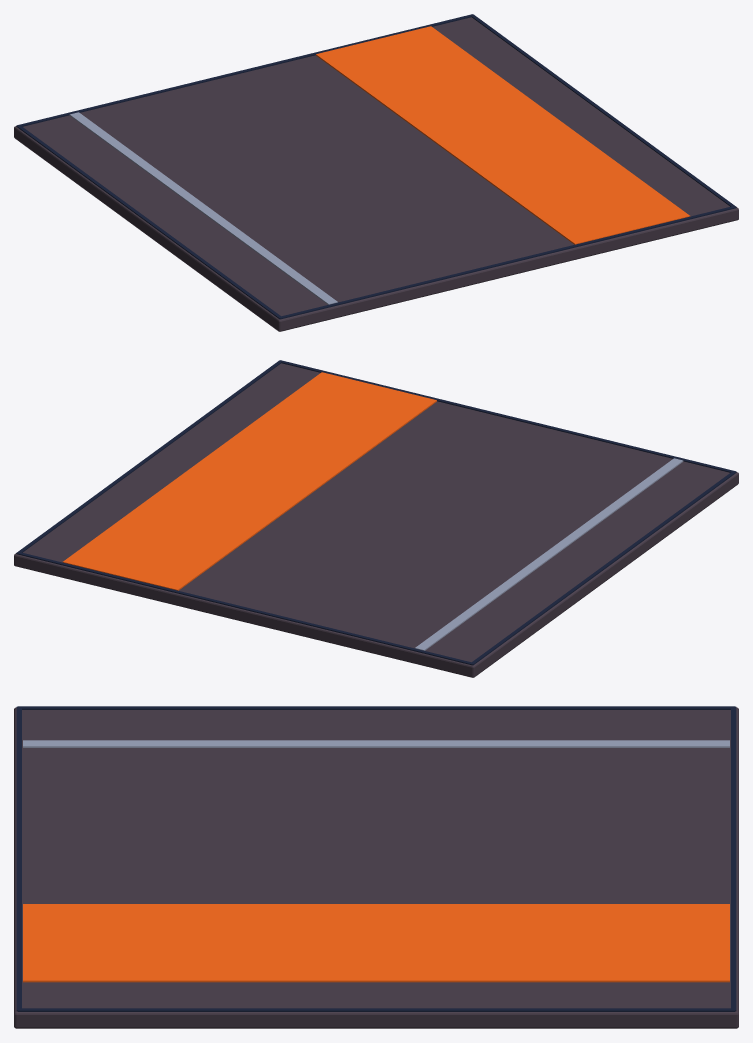
Rendered from sol_tuile_orange.glb.
The picture shows the model from 3 angles, top to bottom: view 1: azimuth 30°, elevation 25°; view 2: azimuth 150°, elevation 25°; view 3: azimuth 270°, elevation 25°; orthographic projection. The views are drawn at different scales.
Visible parts, largest first — view 1: Sol, Bande, Ligne, JointS, JointN, JointO, JointE; view 2: Sol, Bande, Ligne, JointN, JointS, JointO, JointE; view 3: Sol, Bande, Ligne, JointE, JointO, JointN, JointS.
Boxes of the visible parts, bbox=[...] form: Sol: bbox=[14, 17, 738, 331]; Bande: bbox=[316, 26, 690, 244]; Ligne: bbox=[69, 112, 337, 304]; JointS: bbox=[280, 206, 736, 319]; JointN: bbox=[17, 14, 472, 126]; JointO: bbox=[16, 125, 282, 319]; JointE: bbox=[470, 14, 736, 207]; Sol: bbox=[14, 363, 738, 677]; Bande: bbox=[62, 372, 436, 590]; Ligne: bbox=[415, 458, 683, 650]; JointN: bbox=[16, 552, 473, 665]; JointS: bbox=[280, 360, 735, 472]; JointO: bbox=[470, 471, 736, 665]; JointE: bbox=[16, 360, 282, 553]; Sol: bbox=[14, 707, 738, 1028]; Bande: bbox=[23, 904, 729, 982]; Ligne: bbox=[23, 740, 729, 747]; JointE: bbox=[17, 1008, 735, 1011]; JointO: bbox=[17, 706, 735, 709]; JointN: bbox=[731, 706, 736, 1011]; JointS: bbox=[16, 706, 21, 1011].
Bounding box in the file's own units: 4 × 0.111 × 4.
